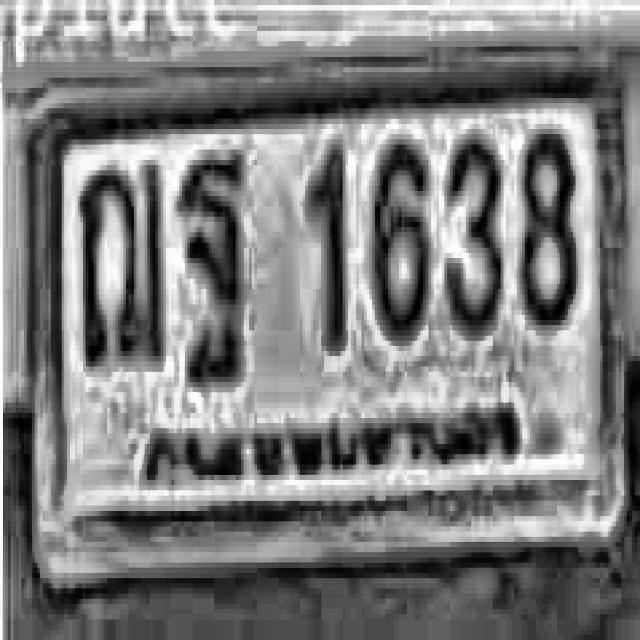license-plate: (27, 49, 633, 596)
